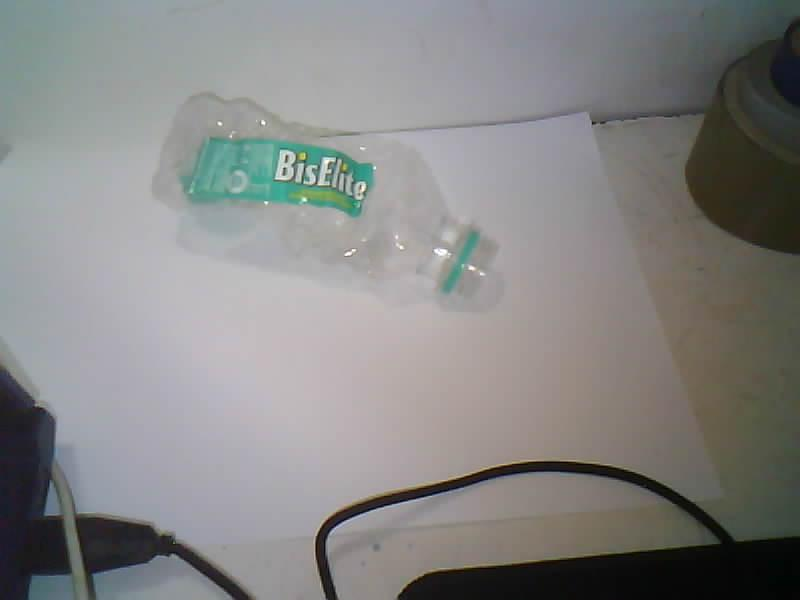non-biodegradable: (153, 94, 497, 307)
